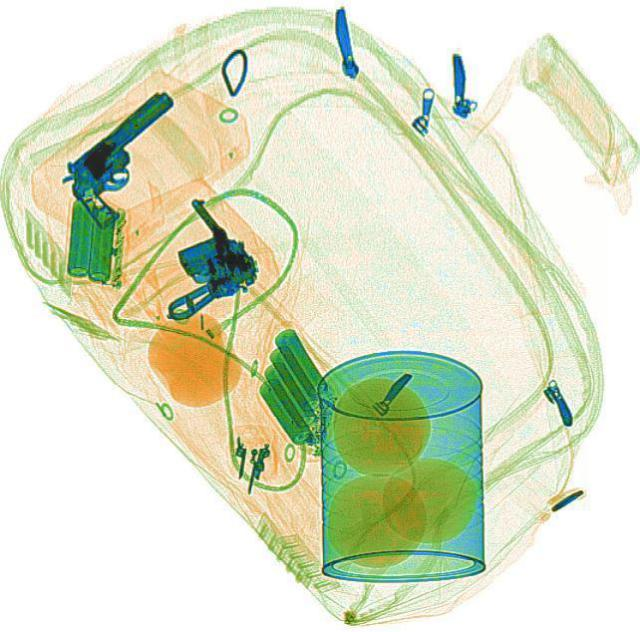Gun: (42, 77, 198, 228), (135, 189, 265, 319)
